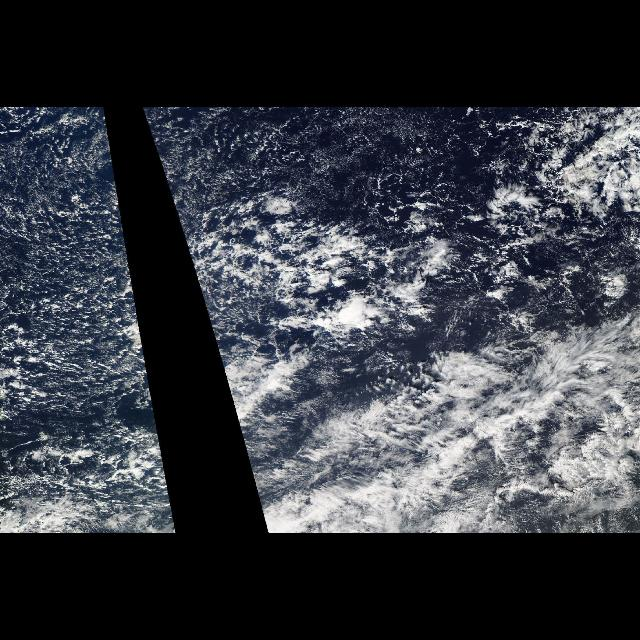Fish: (187, 120, 631, 316)
Gravel: (140, 108, 473, 412), (1, 108, 155, 428)
Sugar: (292, 112, 408, 210)
